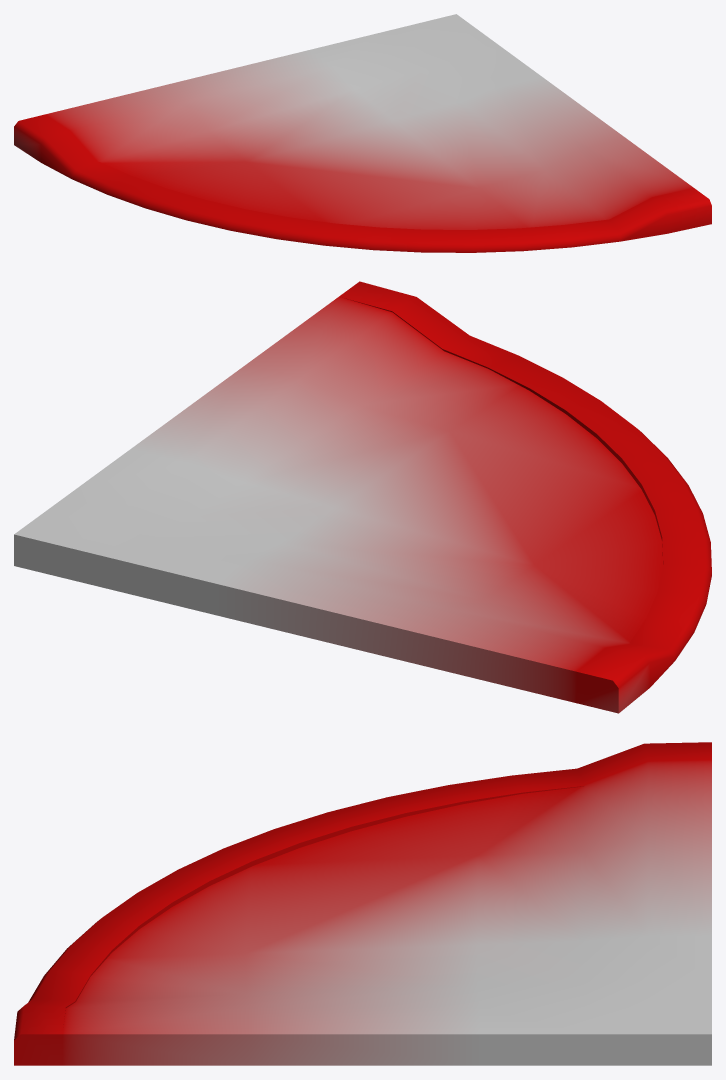
Rendered from Sidewalk_CornerRamp_Round_3m.gltf.
3 views of the same model, one above another, from view 1: azimuth 30°, elevation 25°; view 2: azimuth 150°, elevation 25°; view 3: azimuth 270°, elevation 25° (orthographic). The views are drawn at different scales.
Parts seen in each view (by area): view 1: Sidewalk_CornerRamp_Round_3m; view 2: Sidewalk_CornerRamp_Round_3m; view 3: Sidewalk_CornerRamp_Round_3m.
Part boxes in pixels (<box>): Sidewalk_CornerRamp_Round_3m: <box>14,14,711,252</box>; Sidewalk_CornerRamp_Round_3m: <box>14,281,711,713</box>; Sidewalk_CornerRamp_Round_3m: <box>14,742,711,1065</box>.
Size of what is drawn, in the model's own units: 3.01 by 0.15 by 3.01.
